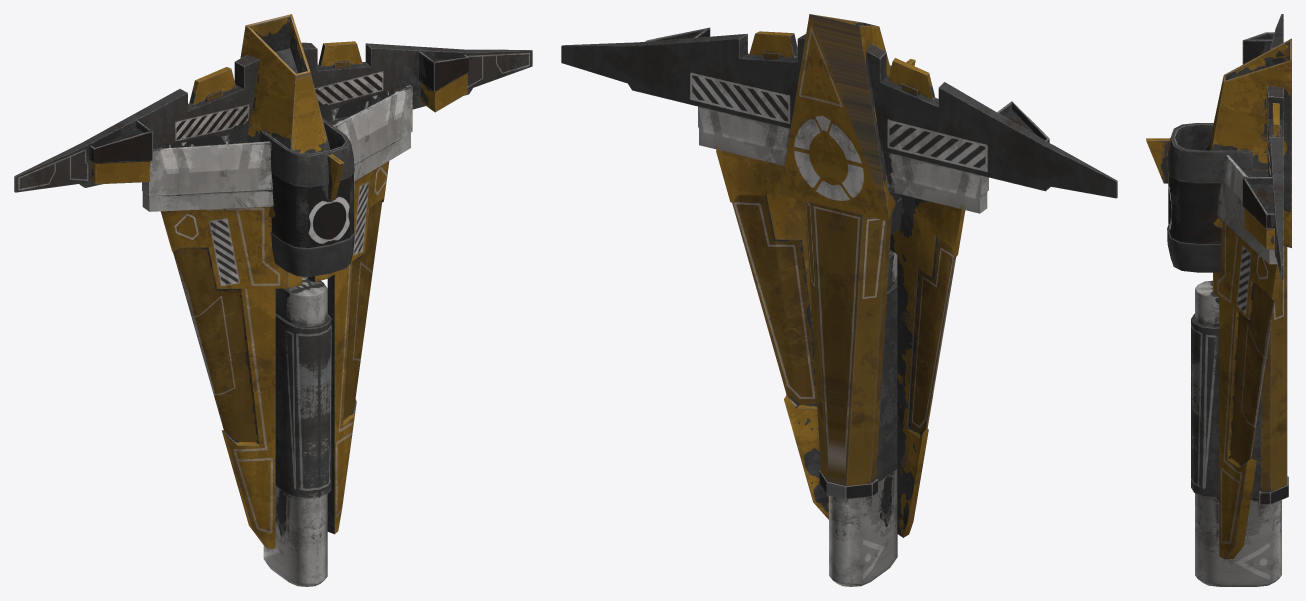
Rendered from lock-wraith.glb.
The picture shows the model from 3 angles, left to right: view 1: azimuth 30°, elevation 25°; view 2: azimuth 150°, elevation 25°; view 3: azimuth 270°, elevation 25°; orthographic projection. The views are drawn at different scales.
Visible parts, largest first — view 1: Omen; view 2: Omen; view 3: Omen.
Part boxes in pixels (box(x1,y1,x2,y2)): Omen: box(14, 14, 532, 586); Omen: box(561, 14, 1117, 586); Omen: box(1146, 14, 1291, 586).
Size of the model in its own units: 12.78 by 12.58 by 3.14.
1 material, 1 textured.
